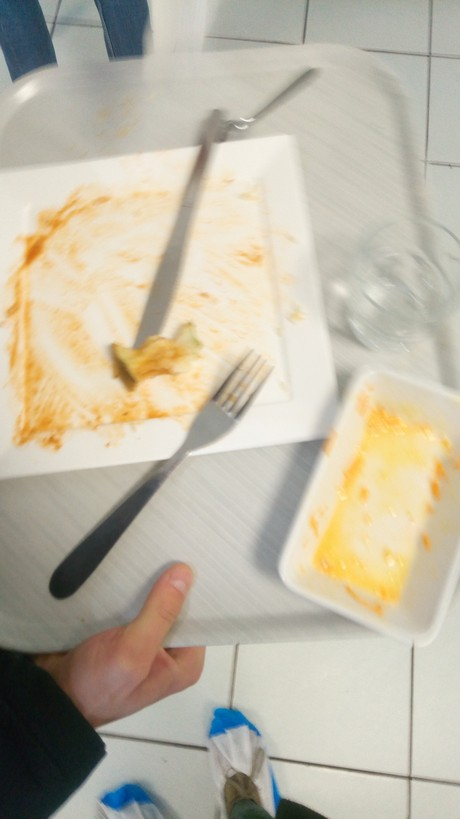cutlery: (48, 360, 287, 604), (210, 47, 336, 143)
orga: (108, 336, 190, 393)
